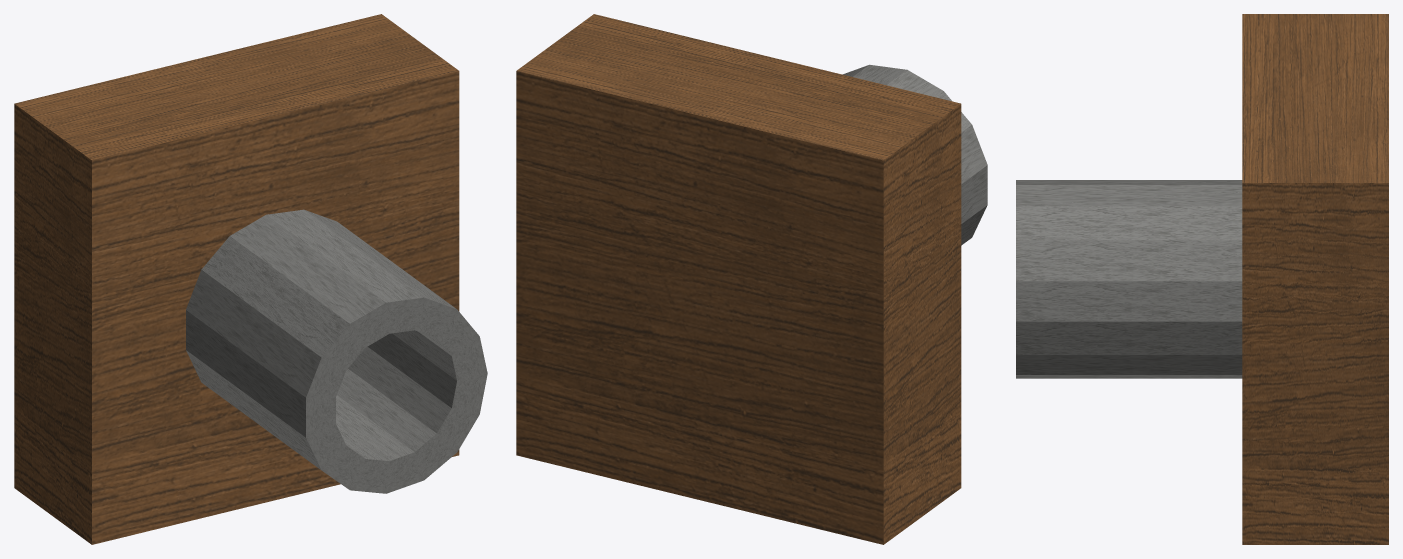
File: walltrap_1_arrowshooter.fbx
The picture shows the model from 3 angles, left to right: view 1: azimuth 30°, elevation 25°; view 2: azimuth 150°, elevation 25°; view 3: azimuth 270°, elevation 25°; orthographic projection. The views are drawn at different scales.
Parts seen in each view (by area): view 1: Cube_Cylinder, Tube; view 2: Cube_Cylinder, Tube; view 3: Cube_Cylinder, Tube.
Part boxes in pixels (x1,y1,x2,y2): Cube_Cylinder: [14, 14, 459, 544]; Tube: [186, 209, 487, 493]; Cube_Cylinder: [516, 14, 961, 544]; Tube: [842, 64, 987, 245]; Cube_Cylinder: [1242, 14, 1388, 544]; Tube: [1016, 180, 1242, 378].
Size of the model in its own units: 60 by 60 by 56.
2 materials, 1 textured.
